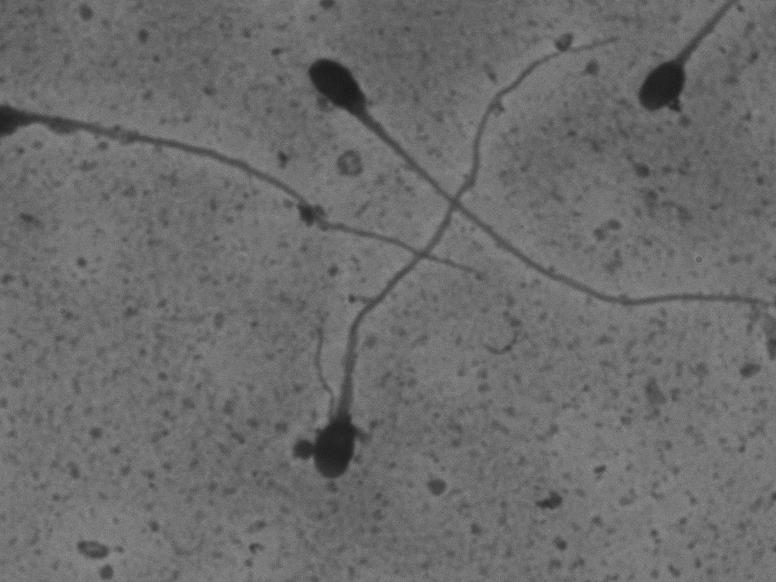Abnormal: (299, 17, 637, 500), (295, 46, 765, 316)
